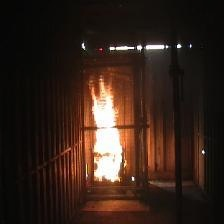fire: (88, 70, 124, 186)
